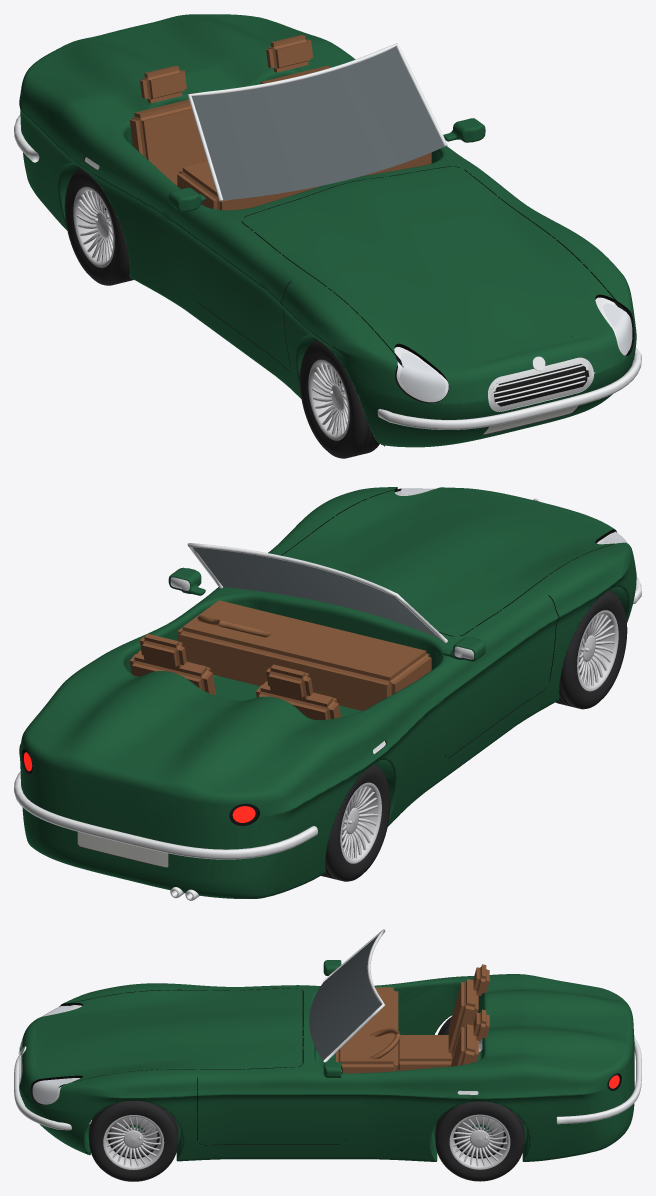
File: halden-280-sprint.fbx
3 views of the same model, one above another, from view 1: azimuth 30°, elevation 25°; view 2: azimuth 150°, elevation 25°; view 3: azimuth 270°, elevation 25° (orthographic). The views are drawn at different scales.
Visible parts, largest first — view 1: Body_LOD0, Screen_LOD0, Seats_LOD0, Wheel_FR_LOD0, Wheel_RR_LOD0, BumperFront_LOD0, Chrome_LOD0, HeadlightLens_LOD0, ScreenFrame_LOD0, Walls_LOD0, Grille_LOD0, GrilleBars_LOD0; view 2: Body_LOD0, Seats_LOD0, Screen_LOD0, Wheel_FR_LOD0, Wheel_RR_LOD0, BumperRear_LOD0, ScreenFrame_LOD0, Plate_LOD0, Walls_LOD0; view 3: Body_LOD0, Seats_LOD0, Wheel_FL_LOD0, Wheel_RL_LOD0, Screen_LOD0, BumperRear_LOD0, Walls_LOD0, HeadlightLens_LOD0, ScreenFrame_LOD0, BumperFront_LOD0, Chrome_LOD0, SteeringWheel_LOD0.
Part boxes in pixels (left/top/right/bottom): Body_LOD0: left=19, top=14, right=636, bottom=447; Screen_LOD0: left=191, top=46, right=445, bottom=200; Seats_LOD0: left=129, top=35, right=431, bottom=210; Wheel_FR_LOD0: left=299, top=340, right=379, bottom=458; Wheel_RR_LOD0: left=64, top=168, right=133, bottom=285; BumperFront_LOD0: left=377, top=348, right=641, bottom=429; Chrome_LOD0: left=84, top=157, right=627, bottom=411; HeadlightLens_LOD0: left=400, top=303, right=632, bottom=399; ScreenFrame_LOD0: left=187, top=43, right=447, bottom=201; Walls_LOD0: left=83, top=156, right=634, bottom=446; Grille_LOD0: left=493, top=364, right=589, bottom=406; GrilleBars_LOD0: left=493, top=365, right=585, bottom=403; Body_LOD0: left=19, top=487, right=636, bottom=898; Seats_LOD0: left=129, top=600, right=431, bottom=719; Screen_LOD0: left=193, top=547, right=439, bottom=638; Wheel_FR_LOD0: left=555, top=591, right=627, bottom=709; Wheel_RR_LOD0: left=321, top=764, right=390, bottom=881; BumperRear_LOD0: left=14, top=771, right=317, bottom=859; ScreenFrame_LOD0: left=187, top=543, right=447, bottom=643; Plate_LOD0: left=77, top=832, right=168, bottom=867; Walls_LOD0: left=21, top=487, right=616, bottom=867; Body_LOD0: left=19, top=960, right=634, bottom=1161; Seats_LOD0: left=336, top=964, right=489, bottom=1073; Wheel_FL_LOD0: left=89, top=1101, right=178, bottom=1181; Wheel_RL_LOD0: left=435, top=1101, right=524, bottom=1181; Screen_LOD0: left=309, top=935, right=381, bottom=1060; BumperRear_LOD0: left=556, top=1037, right=641, bottom=1124; Walls_LOD0: left=19, top=988, right=634, bottom=1153; HeadlightLens_LOD0: left=32, top=1005, right=72, bottom=1102; ScreenFrame_LOD0: left=323, top=929, right=385, bottom=1062; BumperFront_LOD0: left=14, top=1056, right=91, bottom=1130; Chrome_LOD0: left=18, top=1005, right=478, bottom=1104; SteeringWheel_LOD0: left=369, top=1028, right=400, bottom=1059.
Size of what is drawn, in the model's own units: 1.76 by 1.25 by 4.23.
